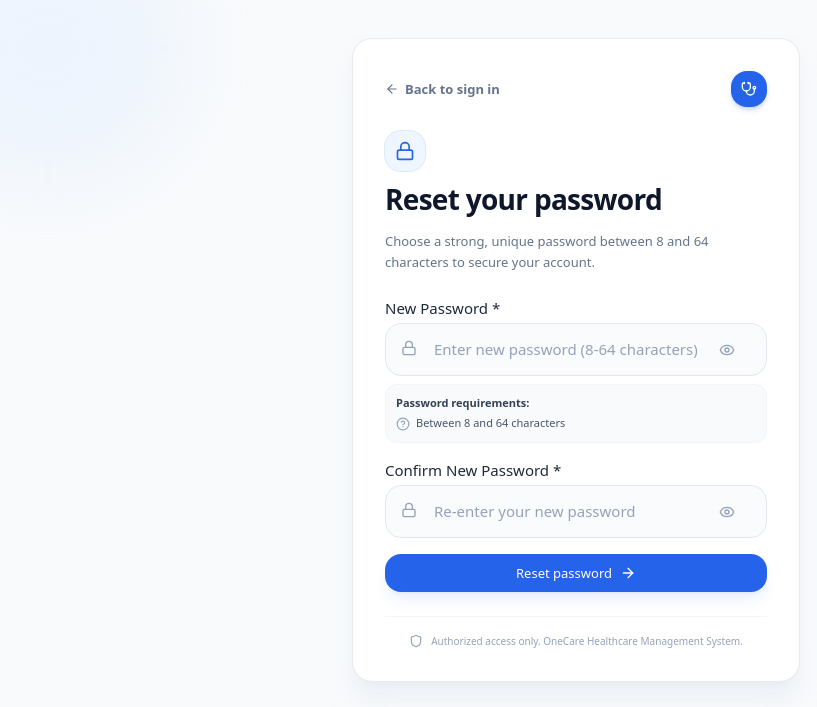
Test: ResetPasswordPage › shows error when token is invalid or expired
This screenshot has width=817, height=707.
Type "BrandNewPass888!" into the password field labelled "New Password*" at (576, 350), box x1=385 y1=323 x2=767 y2=376
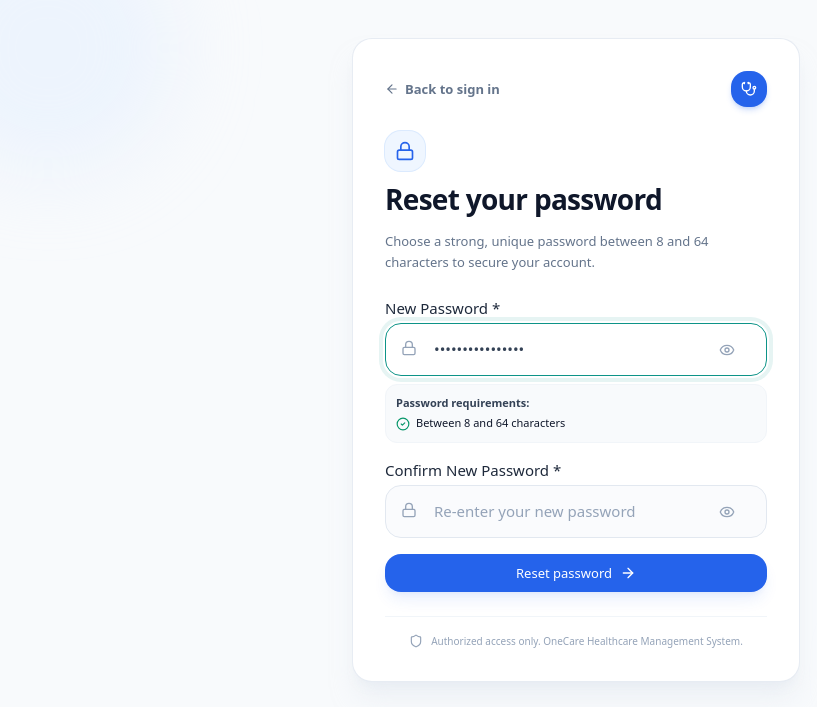
Type "BrandNewPass888!" into the password field labelled "Confirm New Password*" at (576, 512), box x1=385 y1=485 x2=767 y2=538
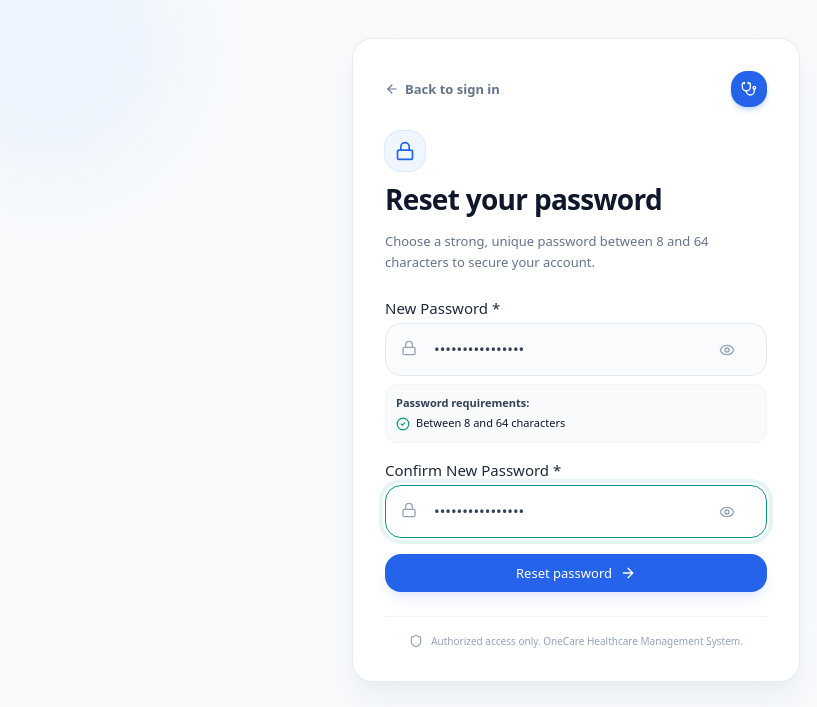
Click the button "Reset password" at (576, 573), box x1=385 y1=554 x2=767 y2=592
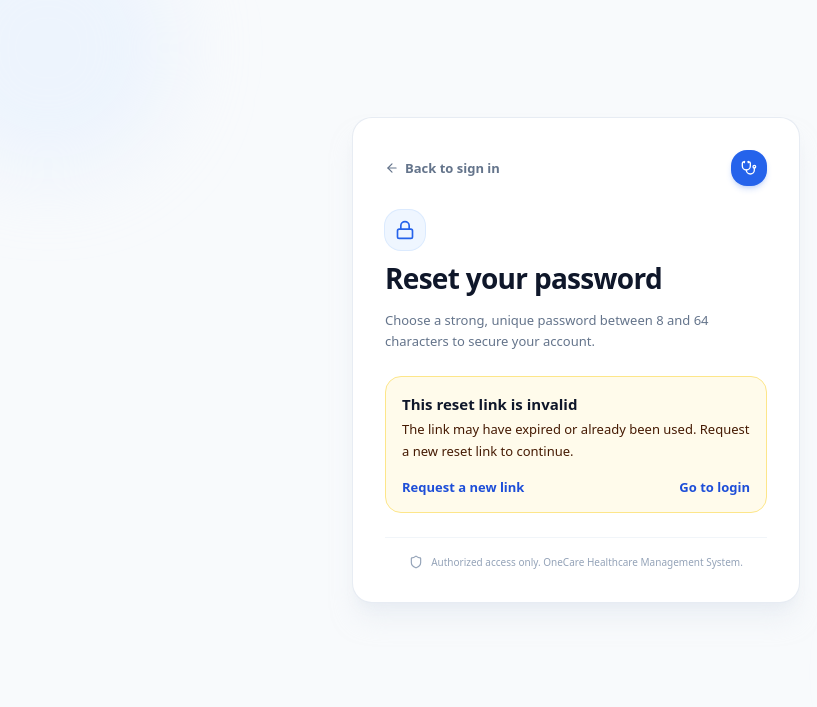
expect the heading "This reset link is invalid" is shown: met, box x1=402 y1=394 x2=577 y2=414
expect the button "Reset password" is gone: met
